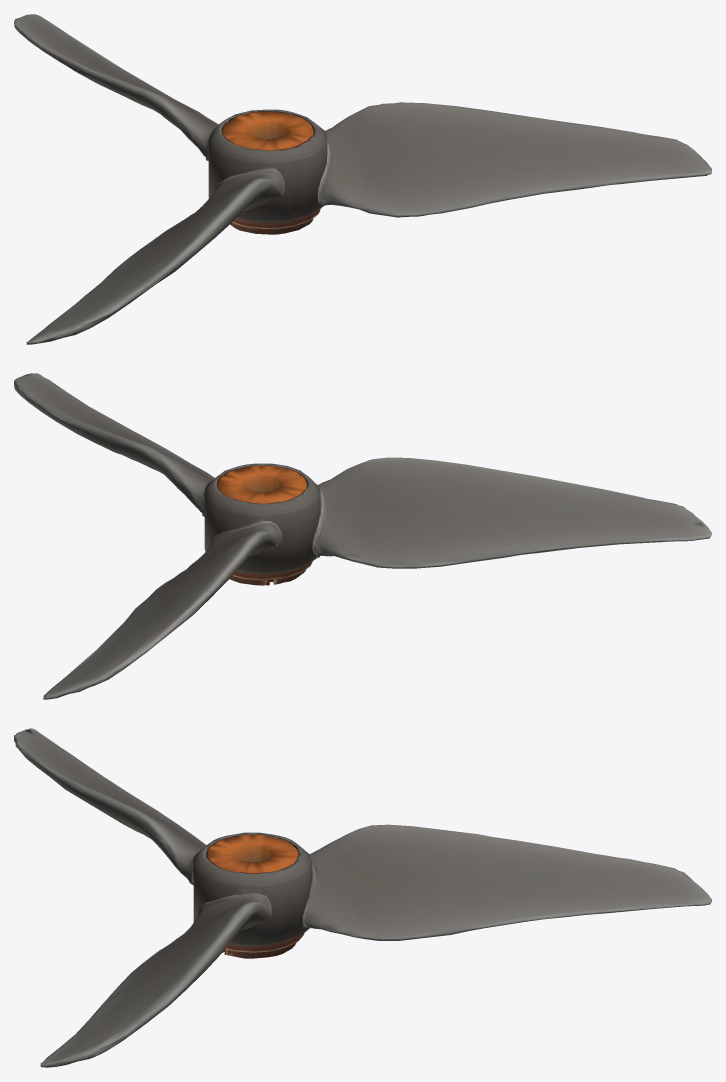
The model's file is propeller.glb.
3 renders of one model, top to bottom at view 1: azimuth 30°, elevation 25°; view 2: azimuth 150°, elevation 25°; view 3: azimuth 270°, elevation 25°, orthographic. The views are drawn at different scales.
Parts seen in each view (by area): view 1: Propeller; view 2: Propeller; view 3: Propeller.
Part boxes in pixels (<box>): Propeller: <box>14,14,711,344</box>; Propeller: <box>14,373,711,699</box>; Propeller: <box>14,728,711,1067</box>.
Size of the model in its own units: 0.998 by 0.1309 by 0.873.
1 material, 1 textured.
